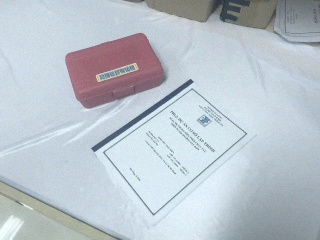box: (64, 33, 166, 109), (141, 1, 224, 23), (219, 1, 279, 29)
